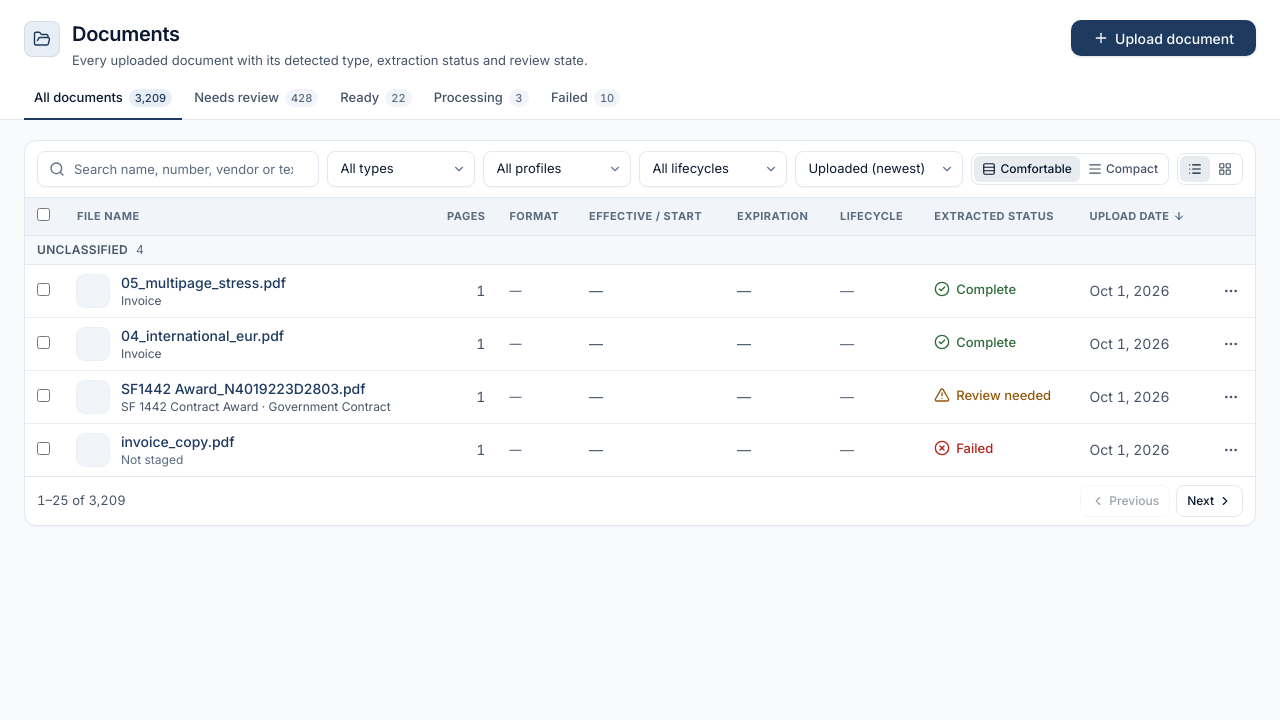
Test: Documents repository (RC2-02) › asks before deleting and refreshes the list and counts afterwards
The width and height of the screenshot is (1280, 720).
Check: the text "05_multipage_stress.pdf" is shown, box [121, 273, 286, 293]
Step 1. Click the button named "Actions for 05_multipage_stress.pdf" → [1231, 291], box [1219, 279, 1243, 303]
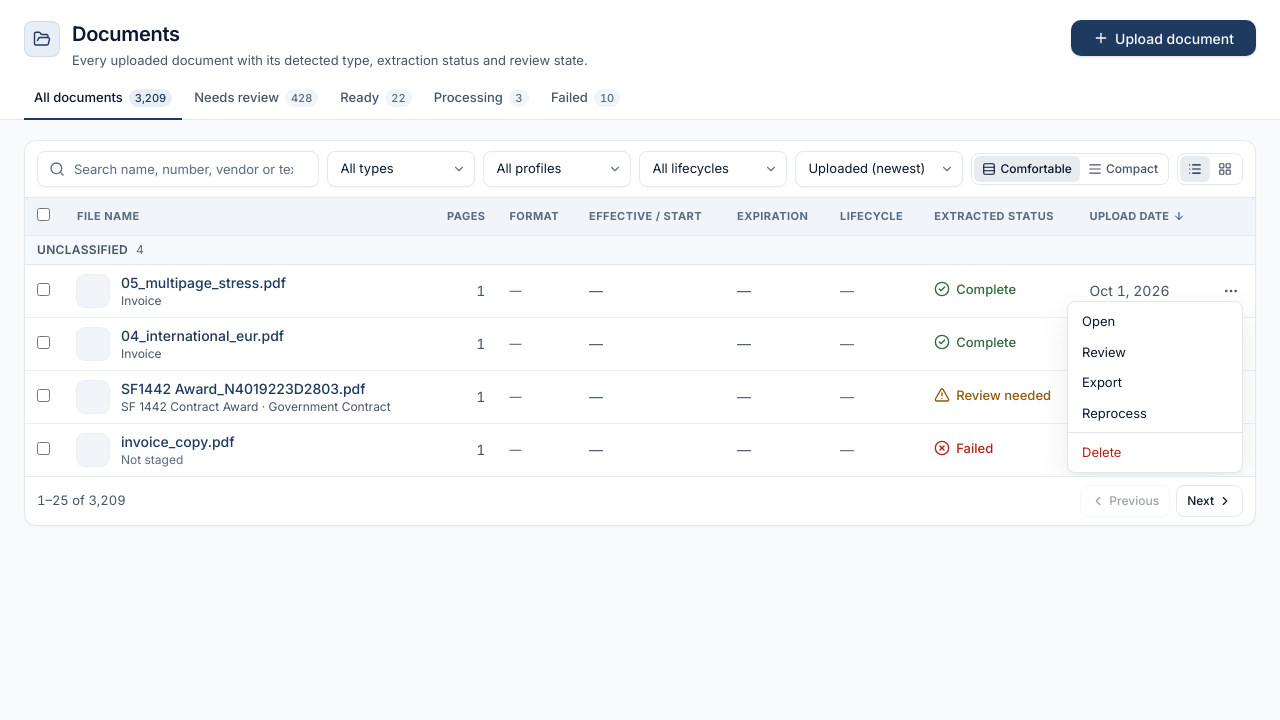
Check: the menu items read "Open", "Review", "Export", "Reprocess", "Delete", in this order
Step 2. Click the menu item "Delete" → [1155, 453], box [1072, 438, 1238, 468]
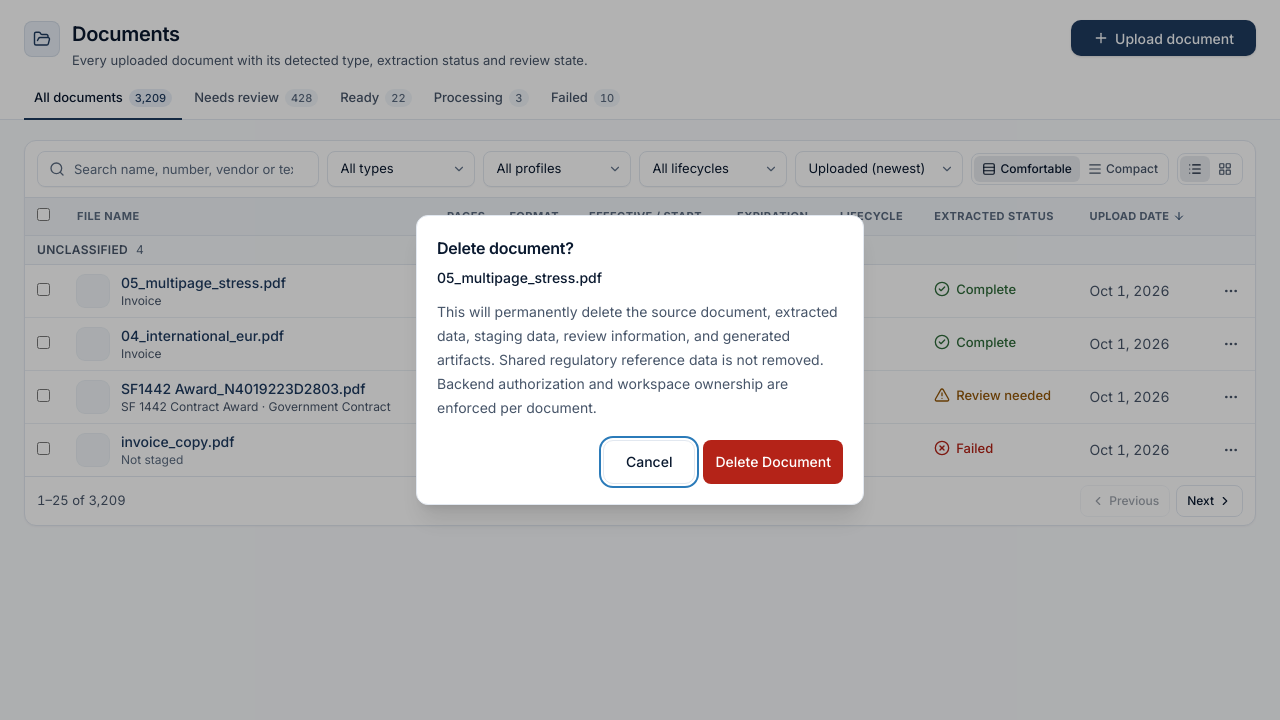
Check: the list item "05_multipage_stress.pdf" is shown, box [437, 269, 602, 286]
Step 3. Click the button "Cancel" → [649, 462], box [603, 440, 695, 484]
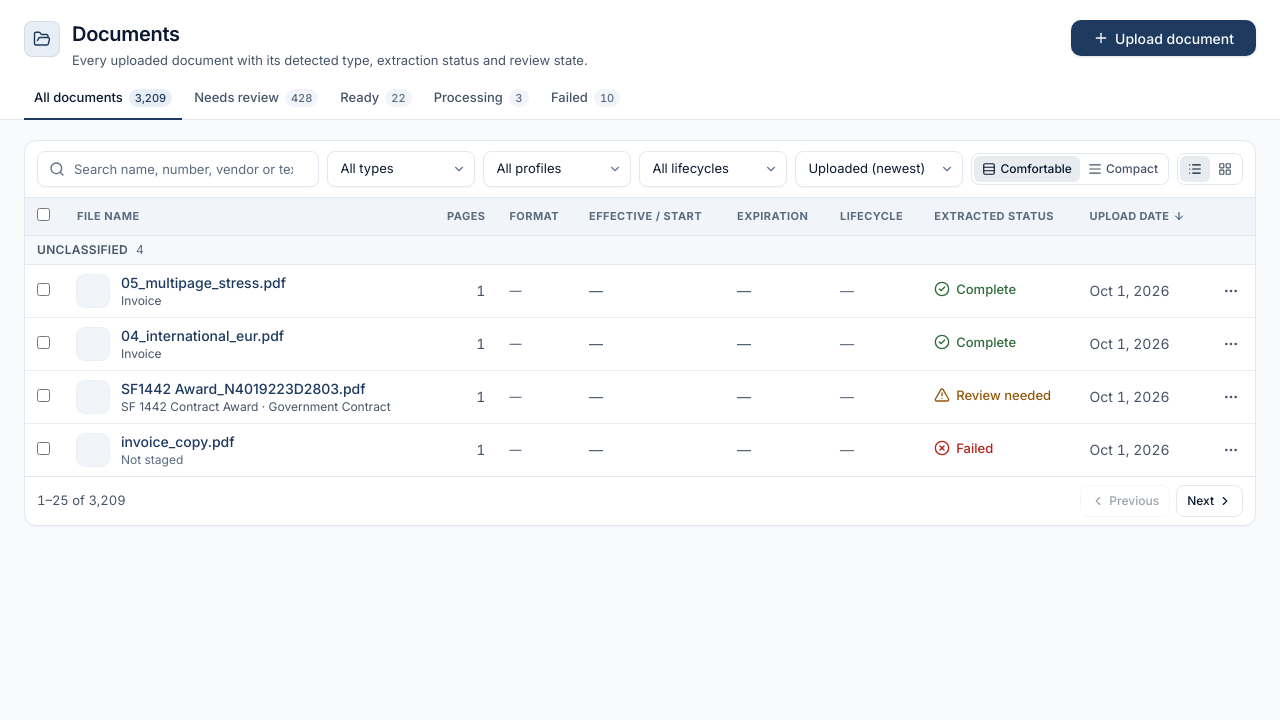
Check: the dialog is gone
Step 4. Click the button named "Actions for 05_multipage_stress.pdf" → [1231, 291], box [1219, 279, 1243, 303]
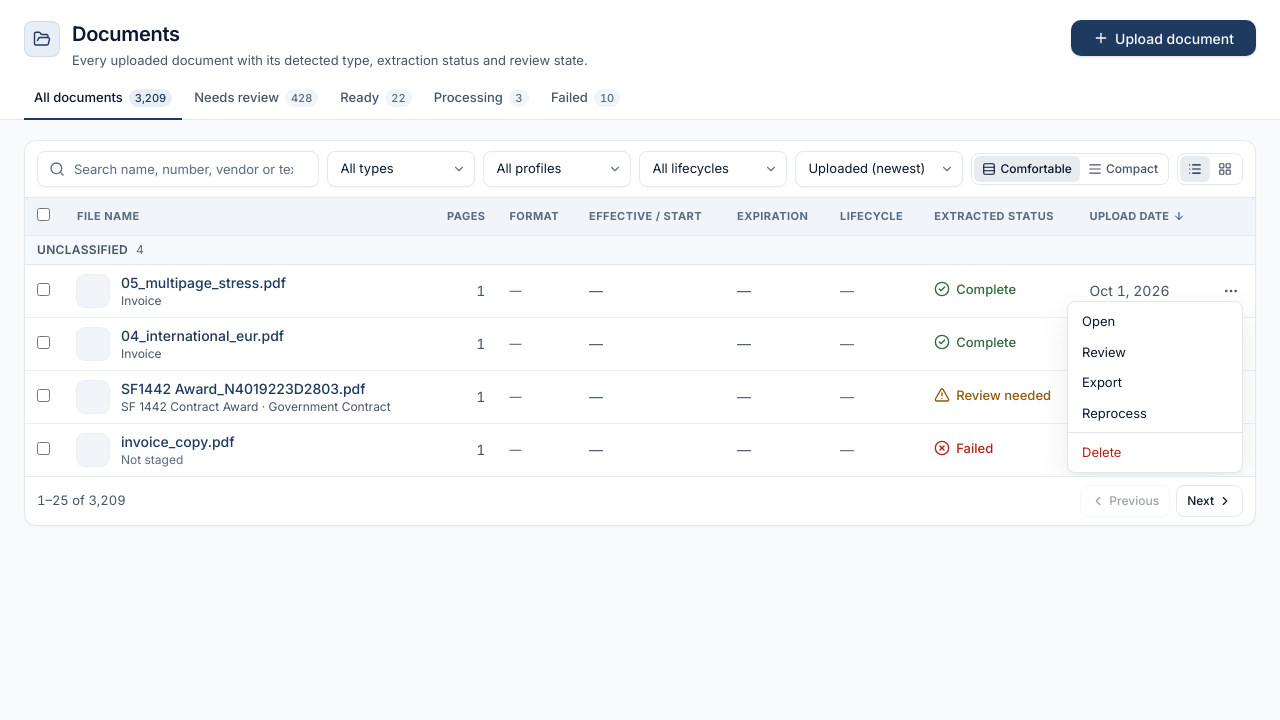
Step 5. Click the menu item "Delete" → [1155, 453], box [1072, 438, 1238, 468]
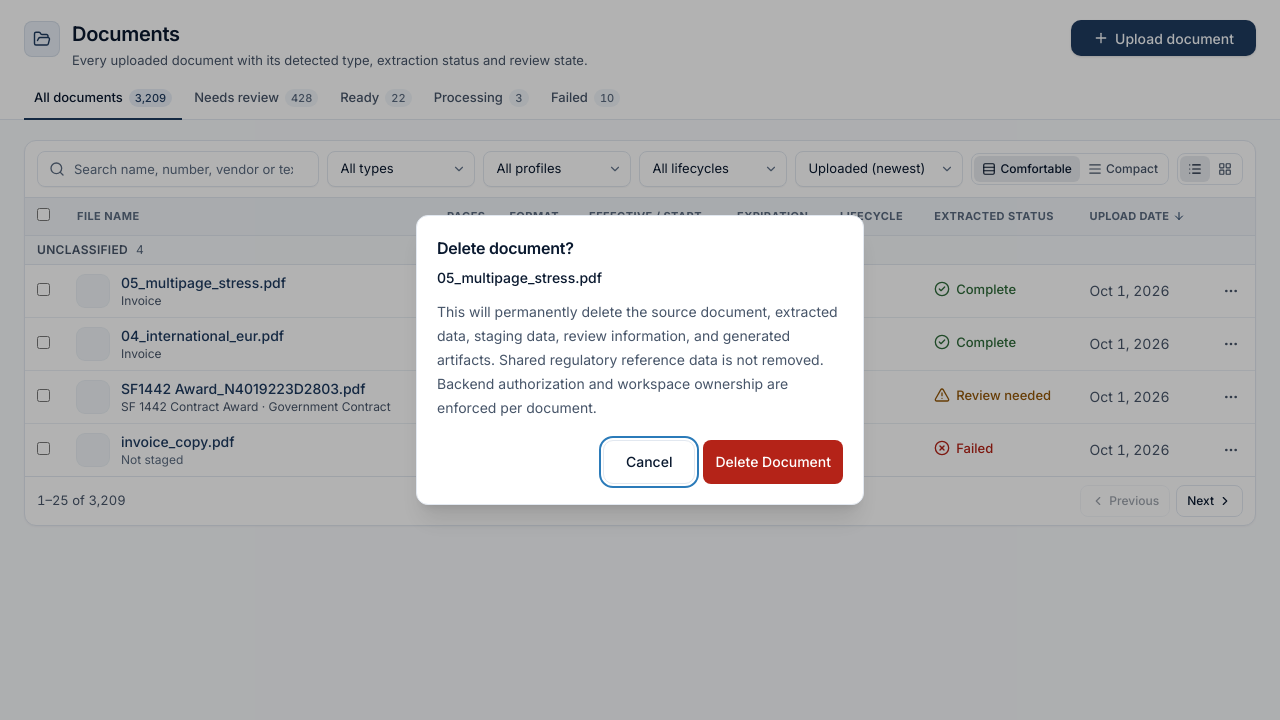
Step 6. Click the button "Delete Document" → [773, 462], box [703, 440, 843, 484]
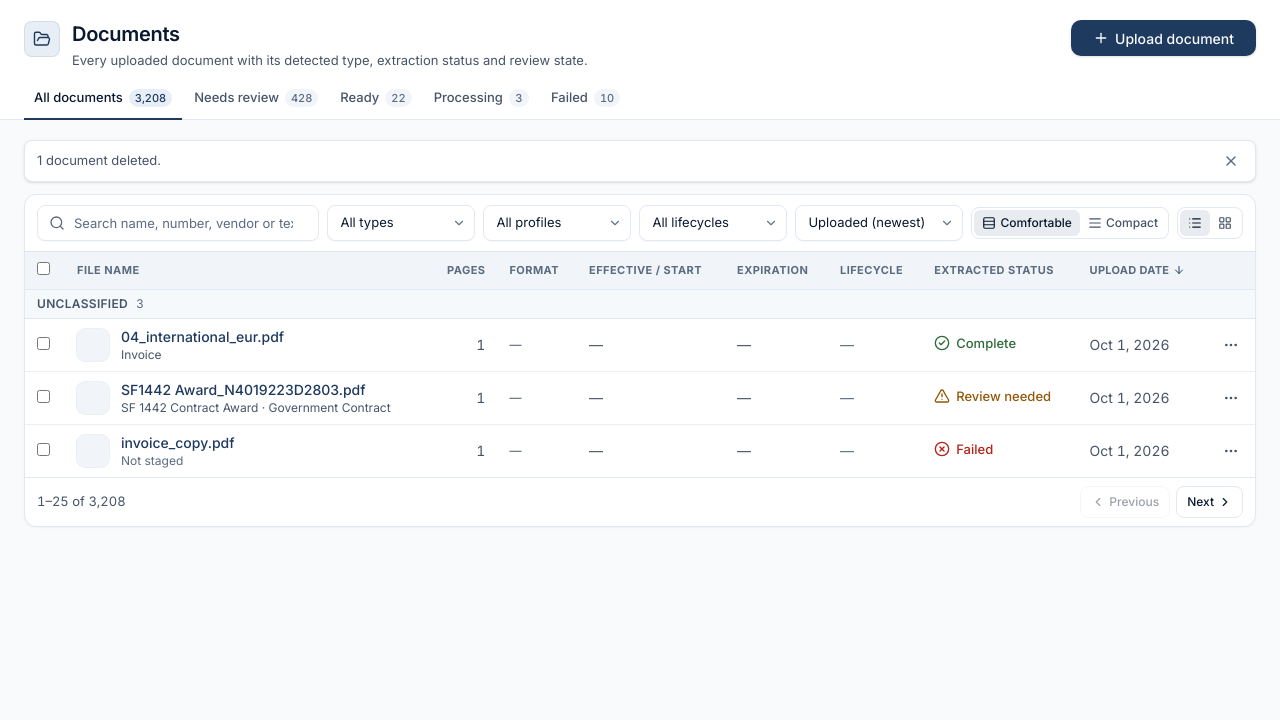
Check: the text "05_multipage_stress.pdf" is gone
Check: the text "3,208" is shown, box [129, 88, 172, 107]
Check: the message shows "1 document deleted", box [37, 152, 161, 168]
